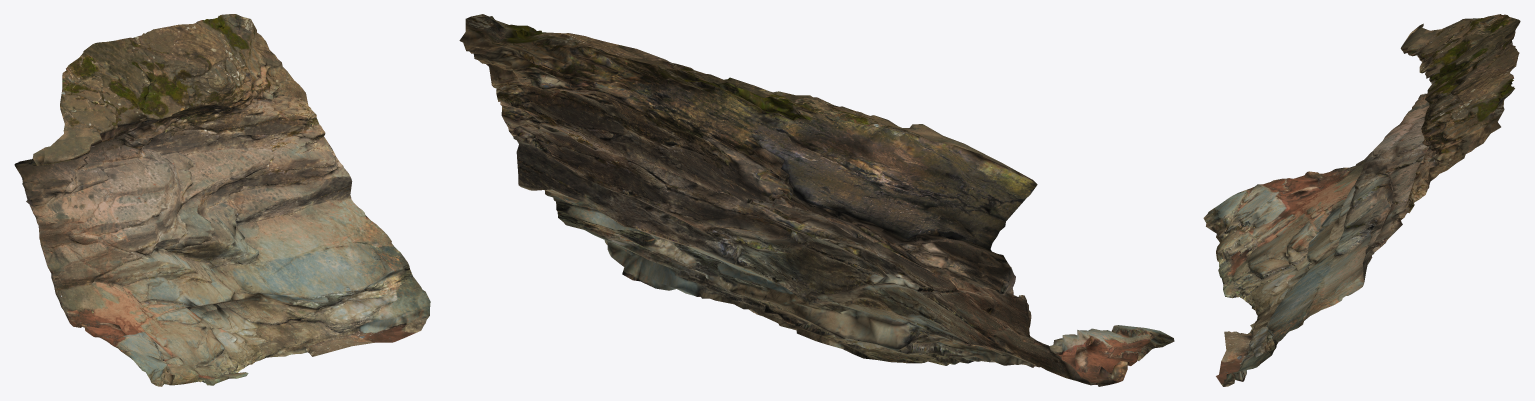
Rendered from rock_face_01.gltf.
The picture shows the model from 3 angles, left to right: view 1: azimuth 30°, elevation 25°; view 2: azimuth 150°, elevation 25°; view 3: azimuth 270°, elevation 25°; orthographic projection. The views are drawn at different scales.
Visible parts, largest first — view 1: rock_face_01; view 2: rock_face_01; view 3: rock_face_01.
Boxes of the visible parts, <box> form: rock_face_01: <box>14,14,430,386</box>; rock_face_01: <box>459,14,1174,386</box>; rock_face_01: <box>1203,14,1520,386</box>.
Size of the model in its own units: 4.95 by 3.56 by 3.83.
Materials: 1 (1 with a texture image).
